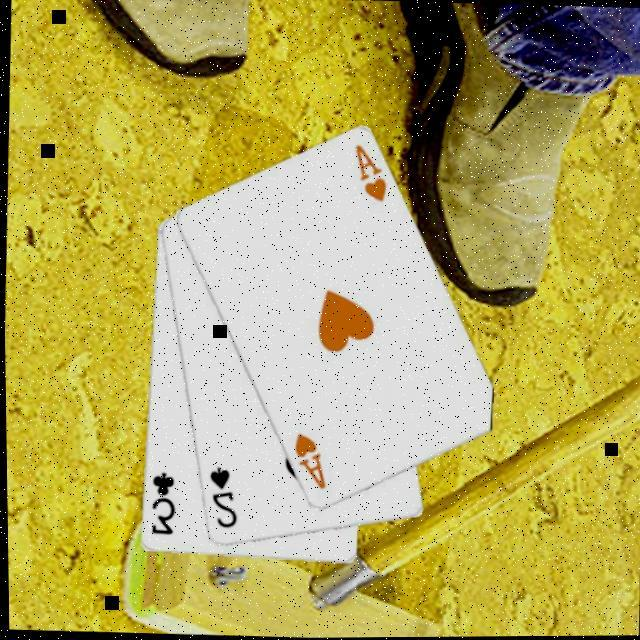2S: (203, 463, 242, 532)
3C: (146, 470, 179, 540)
AH: (288, 431, 330, 494), (351, 142, 392, 206)
